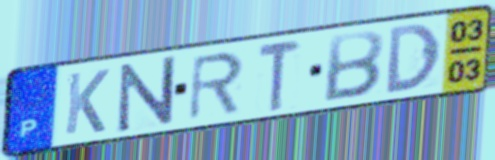B: (320, 28, 387, 104)
D: (385, 20, 444, 97)
K: (62, 66, 112, 137)
N: (116, 53, 177, 136)
R: (186, 49, 246, 123)
T: (256, 38, 305, 114)
